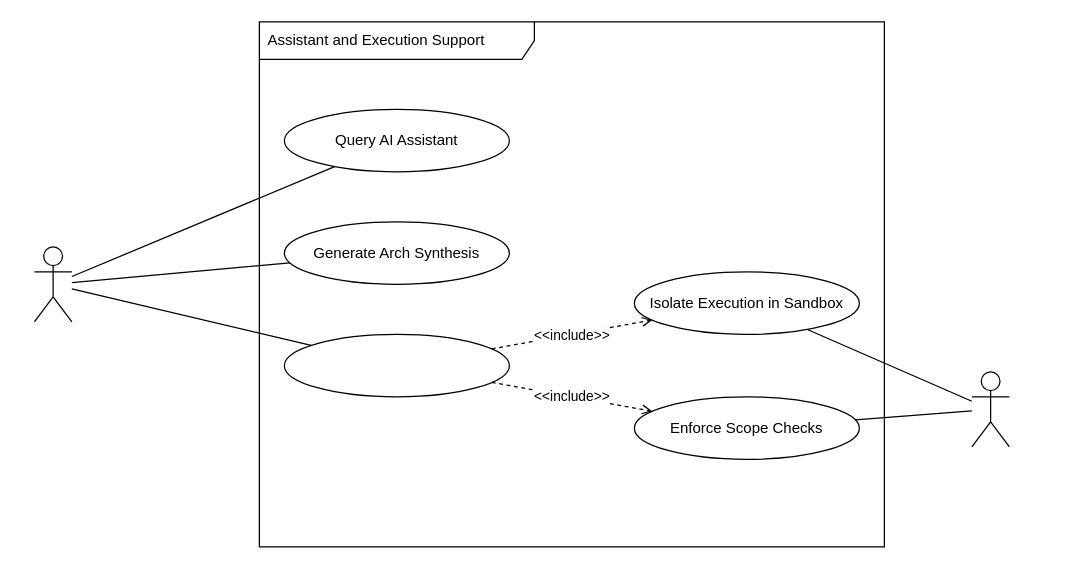
The diagram is 1069 pixels wide and 569 high, and some of its shapes have lost their labels. Each missing label, with the centre of its shape:
"Pentester" goes at (52,284).
"Request Controlled Execution" goes at (396,365).
"Sandbox Service" goes at (990,409).
